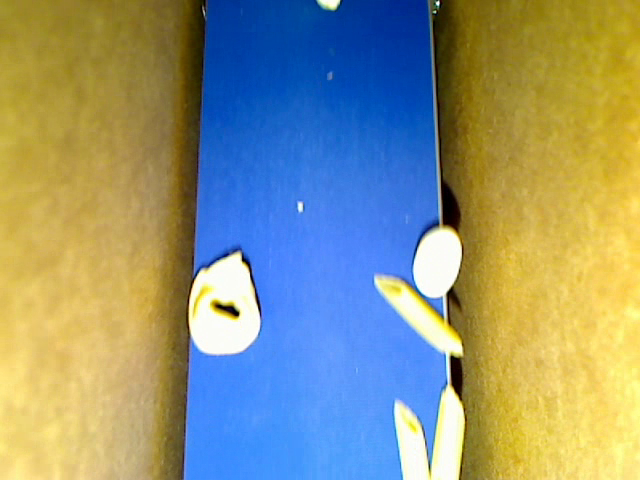penne: (373, 273, 463, 358), (429, 384, 465, 479), (392, 397, 431, 479)
tortellini: (188, 249, 262, 358)
